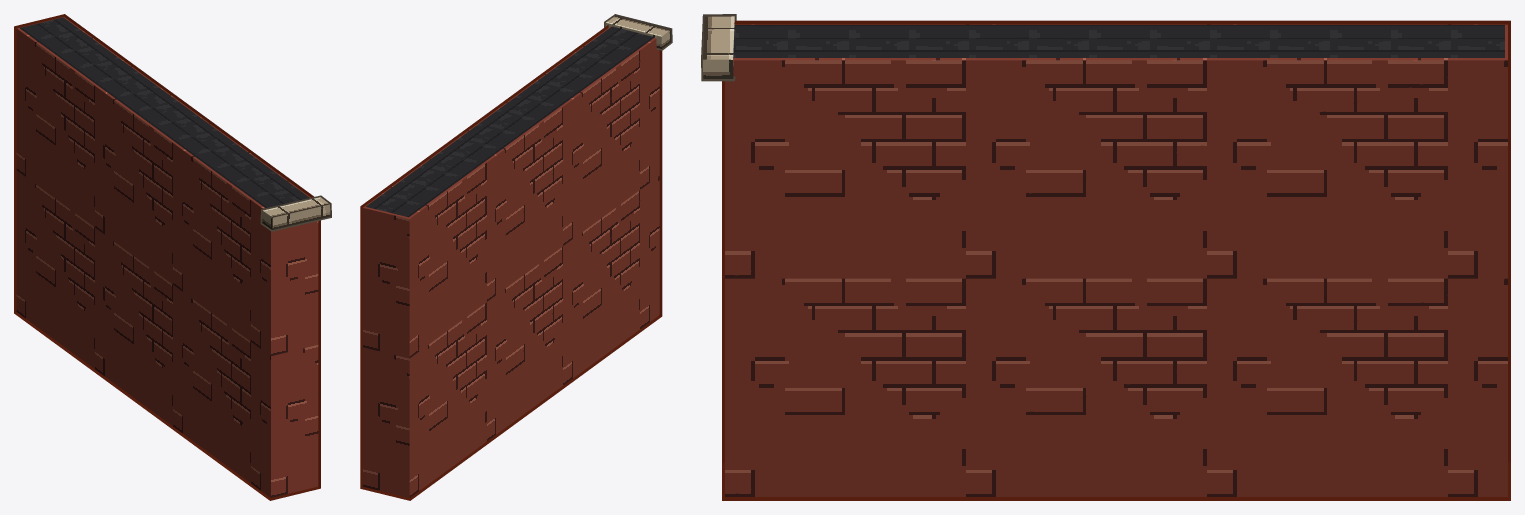
Rendered from Block_6.glb.
The picture shows the model from 3 angles, left to right: view 1: azimuth 30°, elevation 25°; view 2: azimuth 150°, elevation 25°; view 3: azimuth 270°, elevation 25°; orthographic projection. The views are drawn at different scales.
Visible parts, largest first — view 1: Block_6; view 2: Block_6; view 3: Block_6.
Part boxes in pixels (x1,y1,x2,y2): Block_6: (14,14,331,500); Block_6: (360,14,672,500); Block_6: (701,14,1510,500).
Bounding box in the file's own units: 1.77 × 8.16 × 13.45.
Materials: 5 (3 with a texture image).
